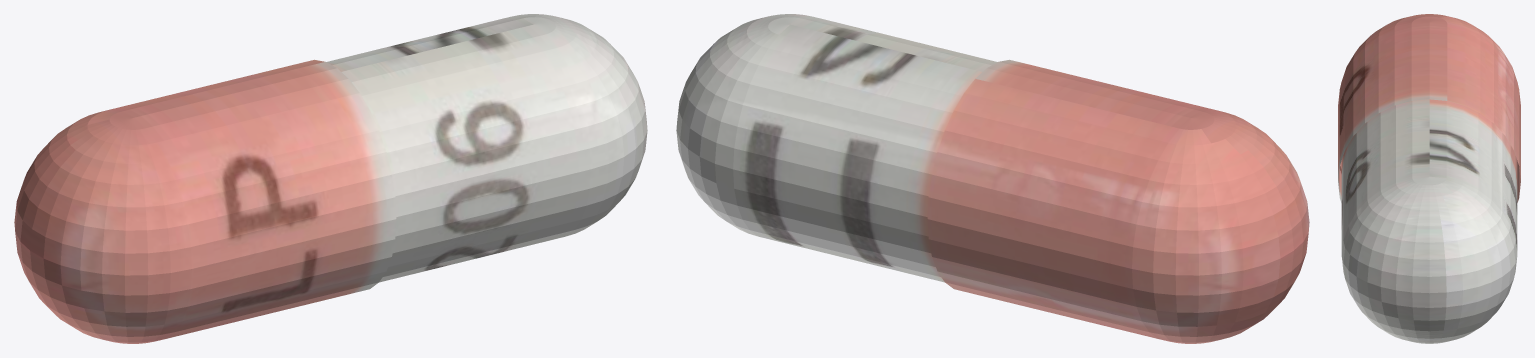
3 views of the same model, side by side, from view 1: azimuth 30°, elevation 25°; view 2: azimuth 150°, elevation 25°; view 3: azimuth 270°, elevation 25° (orthographic). The views are drawn at different scales.
Parts seen in each view (by area): view 1: 球體; view 2: 球體; view 3: 球體.
Boxes of the visible parts, x1,y1,x2,y2 form: 球體: (14, 14, 647, 343); 球體: (676, 14, 1309, 343); 球體: (1338, 14, 1520, 343).
Size of the model in its own units: 2.93 by 1 by 1.
Materials: 1 (1 with a texture image).
